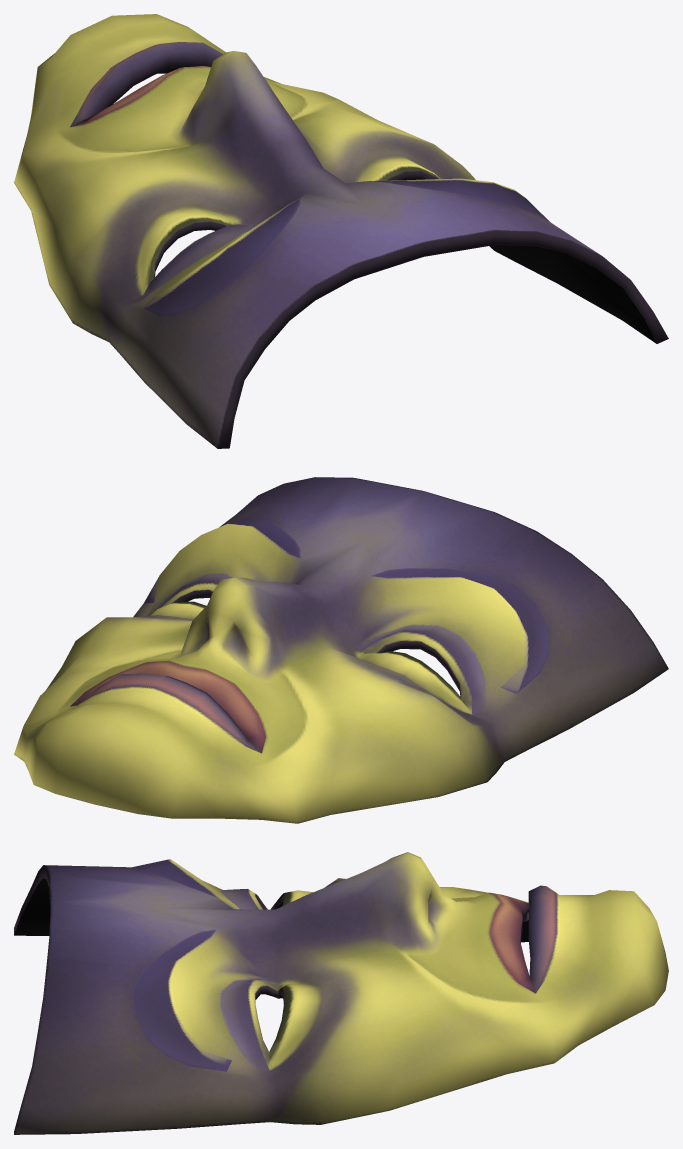
The model's file is anim1_000059.obj.
3 renders of one model, top to bottom at view 1: azimuth 30°, elevation 25°; view 2: azimuth 150°, elevation 25°; view 3: azimuth 270°, elevation 25°, orthographic. The views are drawn at different scales.
Parts seen in each view (by area): view 1: 151out; view 2: 151out; view 3: 151out.
Boxes of the visible parts, <box> form: 151out: <box>14,14,668,448</box>; 151out: <box>14,477,668,823</box>; 151out: <box>14,852,668,1134</box>.
Size of the model in its own units: 4.16 by 1.69 by 5.56.
